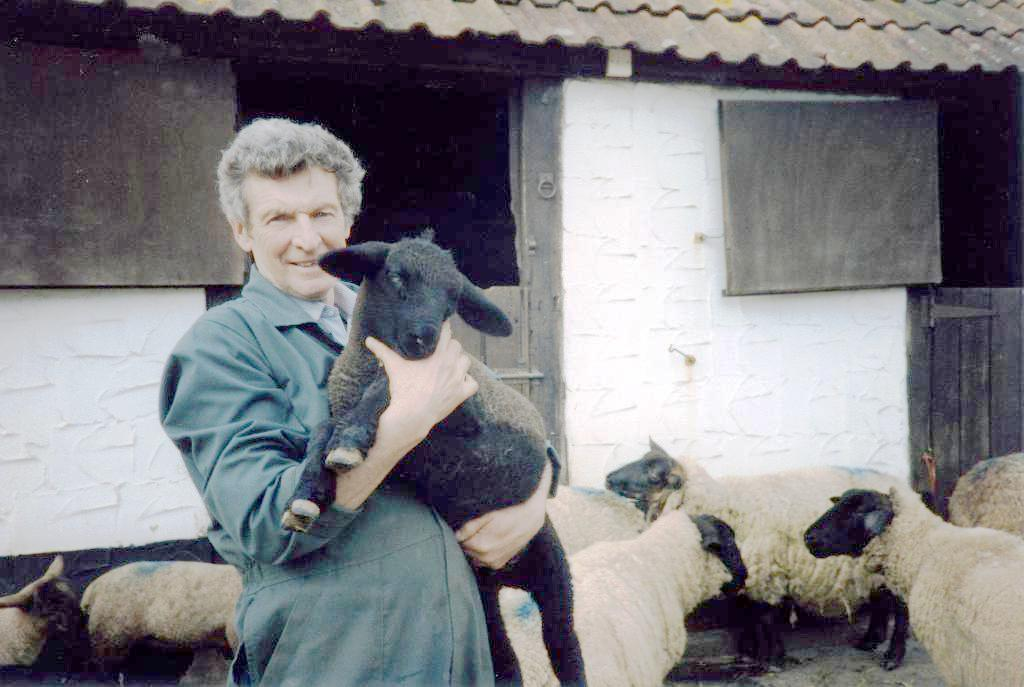Sheep: (273, 242, 585, 684), (600, 436, 918, 672), (502, 498, 746, 687), (806, 476, 1024, 687), (77, 548, 256, 687), (0, 546, 85, 687)
